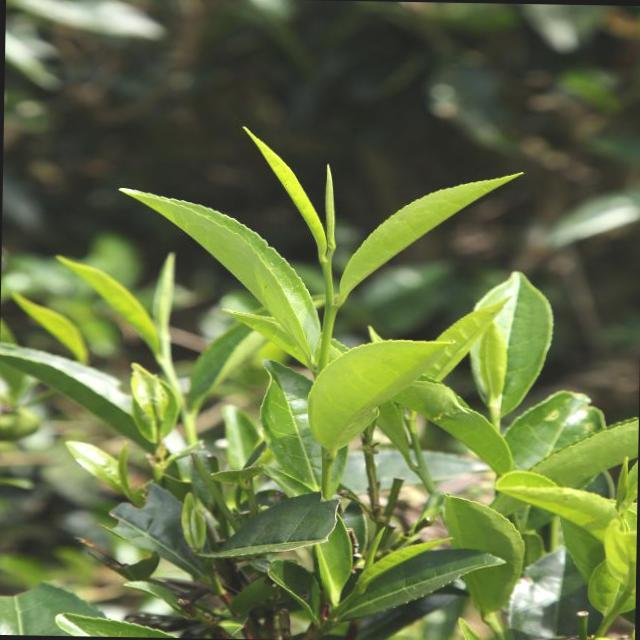Stem: (324, 304, 339, 320)
